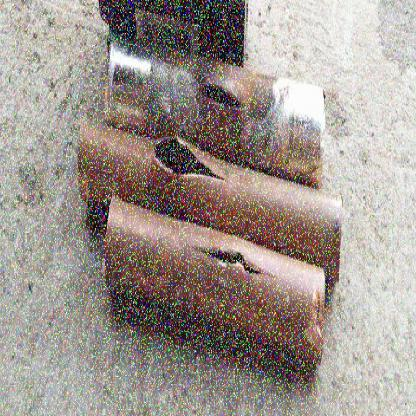burst: (155, 142, 225, 201), (187, 241, 263, 286), (199, 75, 246, 121)
